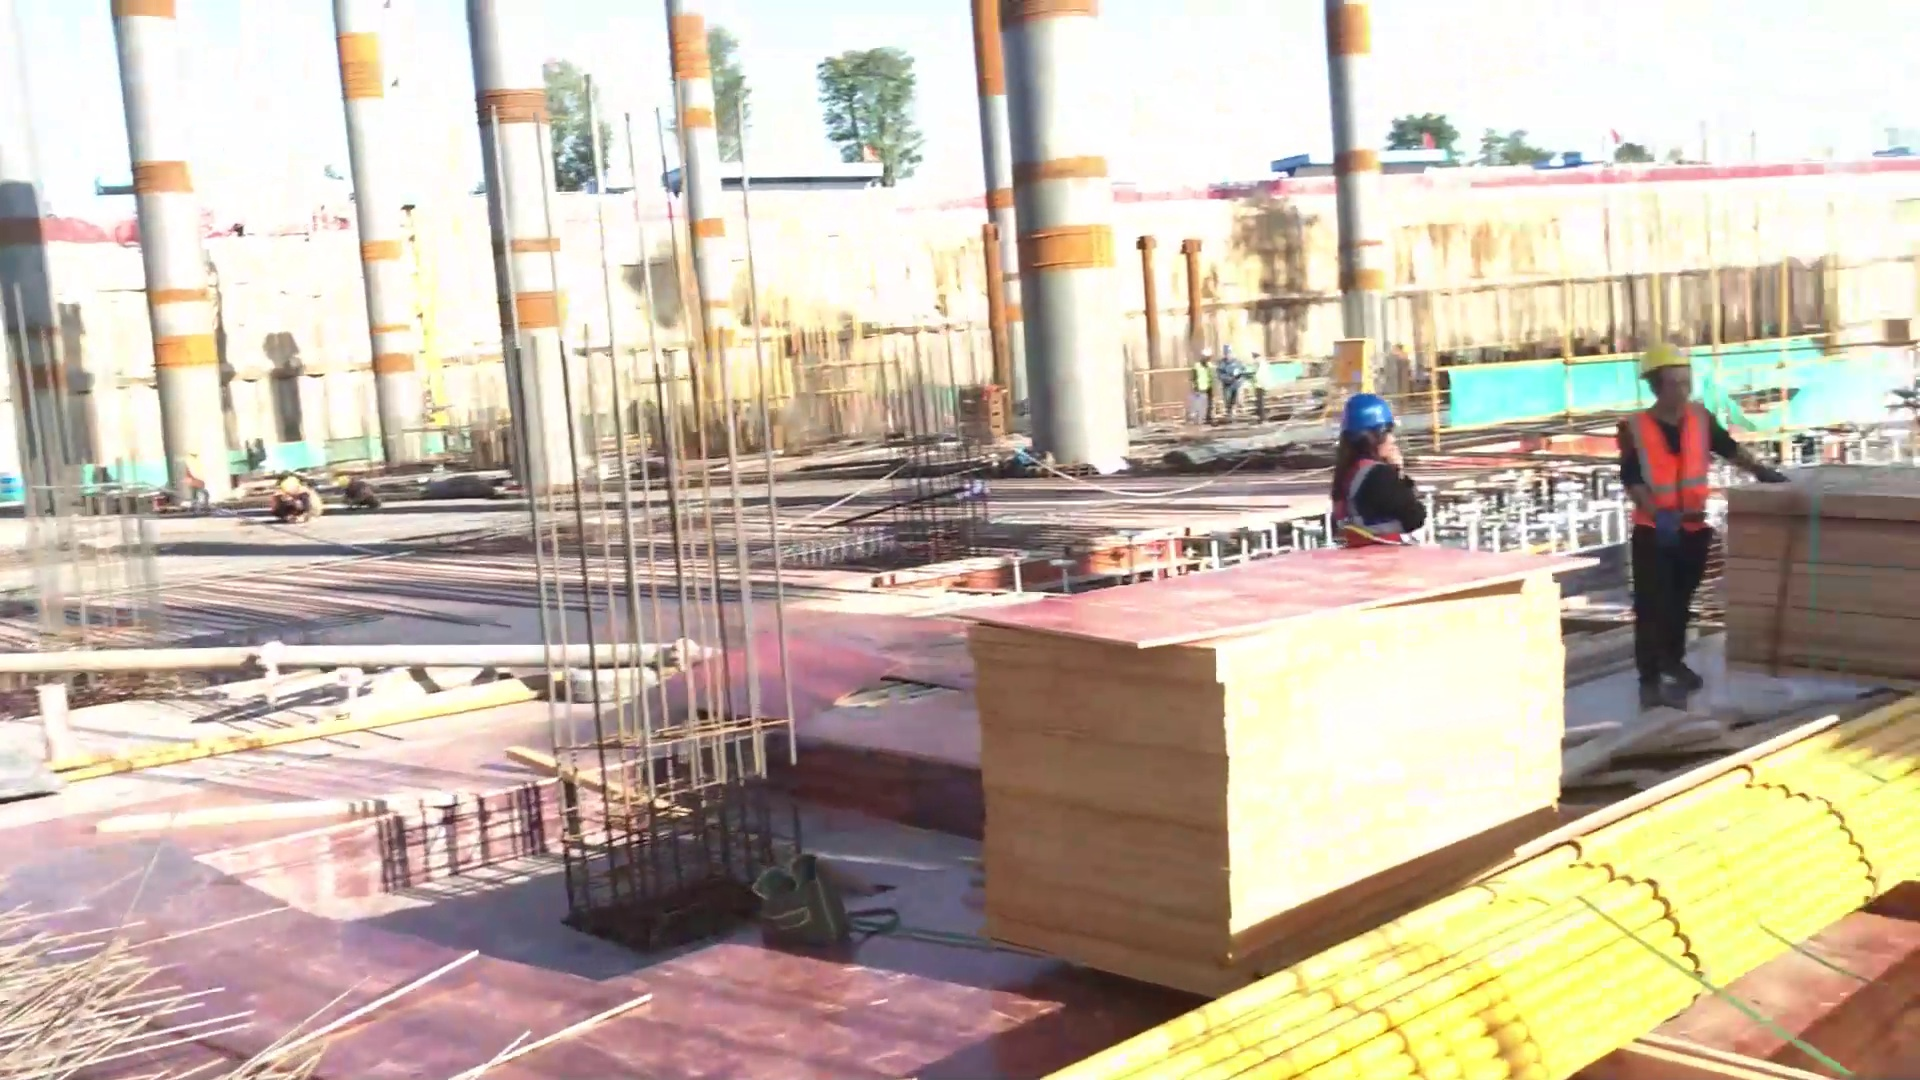board: (919, 523, 1624, 983)
helmet: (1329, 380, 1404, 438), (1616, 329, 1693, 377)
person: (1638, 338, 1802, 719), (1320, 392, 1447, 570), (1193, 346, 1251, 420)
vest: (1608, 397, 1723, 531), (1325, 447, 1438, 551)
